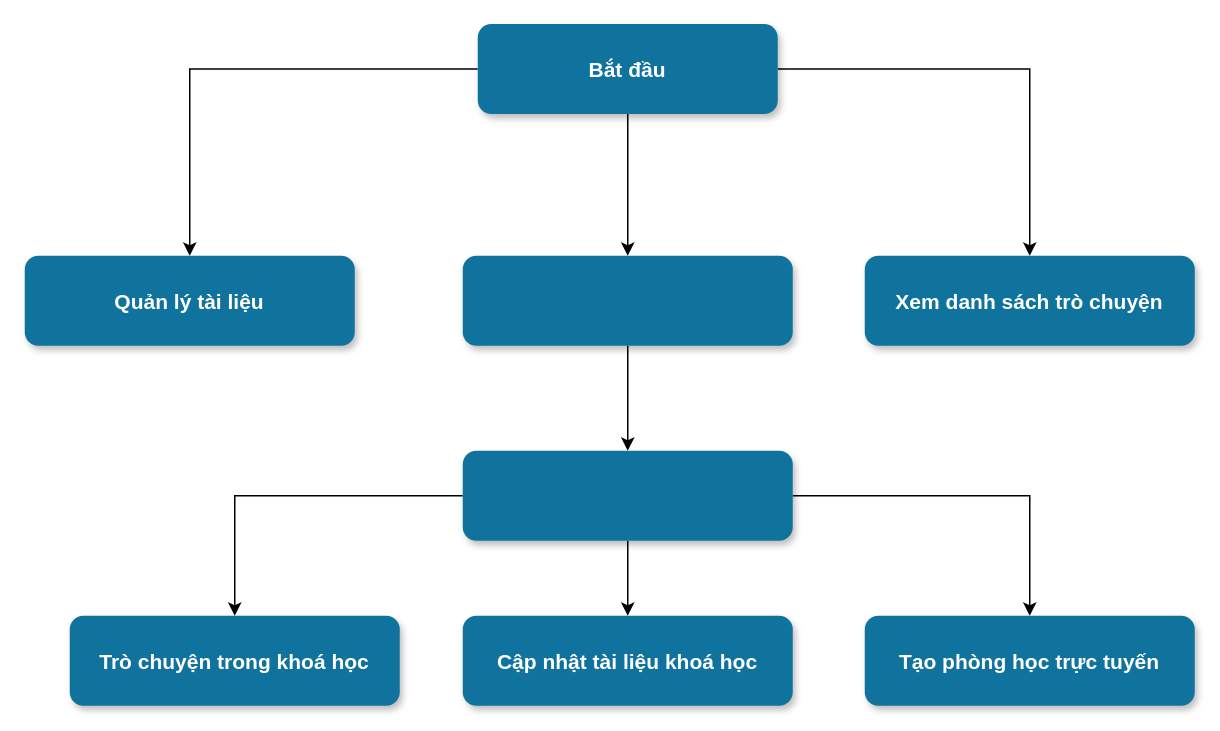
Image size: 1220x731. Some labels were removed from this diagram. Here are the shapes that lost their labels. From the top down, the centre of each, then its label:
At point 628,302: "Cập nhật thông tin cá nhân".
At point 628,497: "Cập nhật thông tin lớp".
